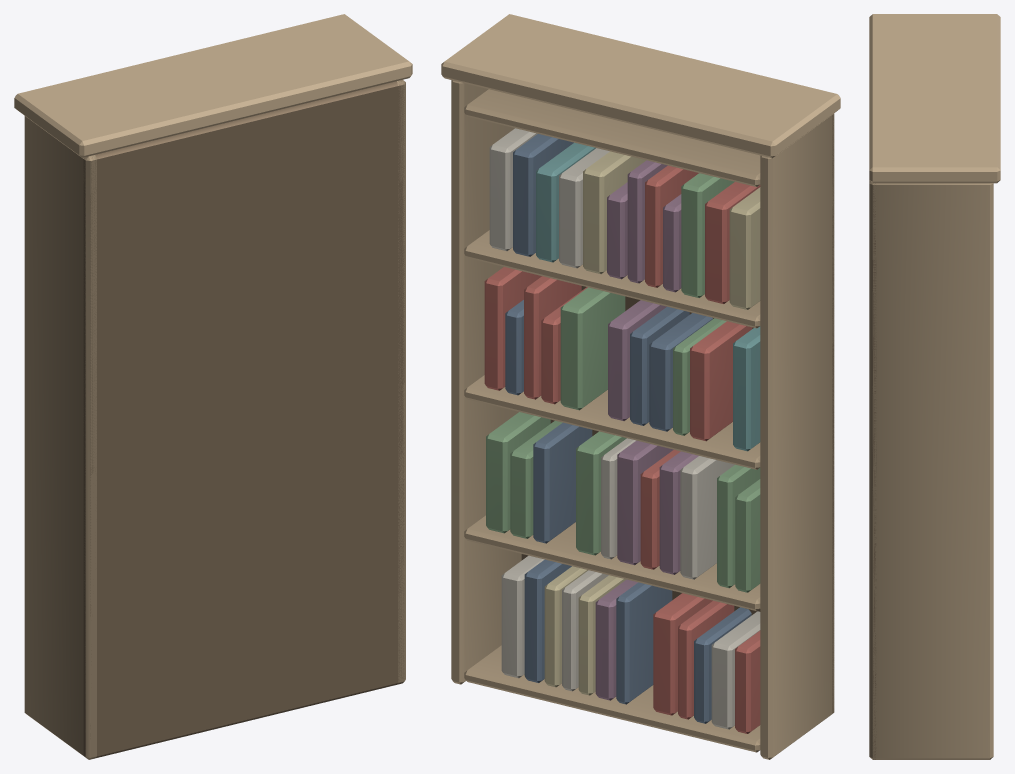
File: furn_bookshelf__oak.glb
3 renders of one model, left to right at view 1: azimuth 30°, elevation 25°; view 2: azimuth 150°, elevation 25°; view 3: azimuth 270°, elevation 25°, orthographic. The views are drawn at different scales.
Size of the model in its own units: 1.04 by 1.85 by 0.37.
